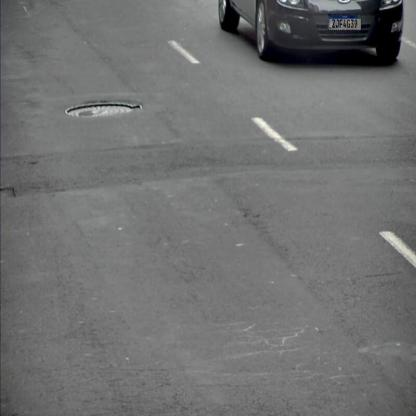PlacaM: (328, 14, 362, 30)
